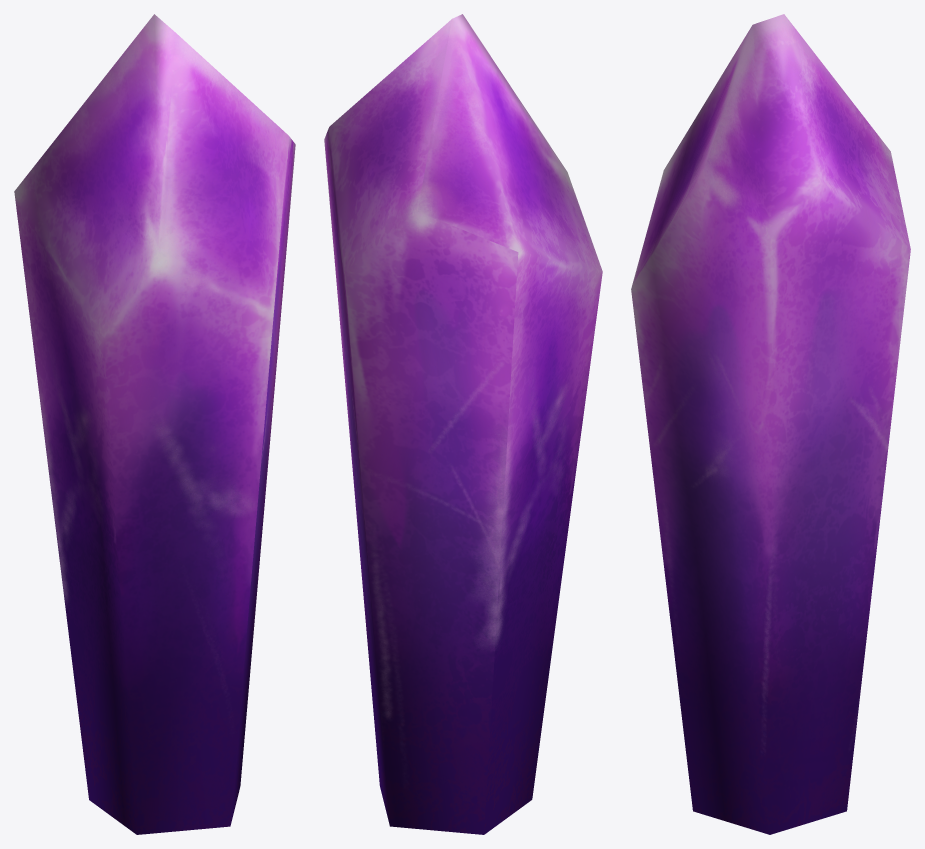
The model's file is Crystal.fbx.
The picture shows the model from 3 angles, left to right: view 1: azimuth 30°, elevation 25°; view 2: azimuth 150°, elevation 25°; view 3: azimuth 270°, elevation 25°; orthographic projection.
Parts seen in each view (by area): view 1: Crystal; view 2: Crystal; view 3: Crystal.
Part boxes in pixels (x1=…): Crystal: x1=14, y1=14, x2=295, y2=834; Crystal: x1=324, y1=14, x2=602, y2=834; Crystal: x1=631, y1=14, x2=910, y2=834.
Size of the model in its own units: 1.16 by 3.68 by 1.19.
